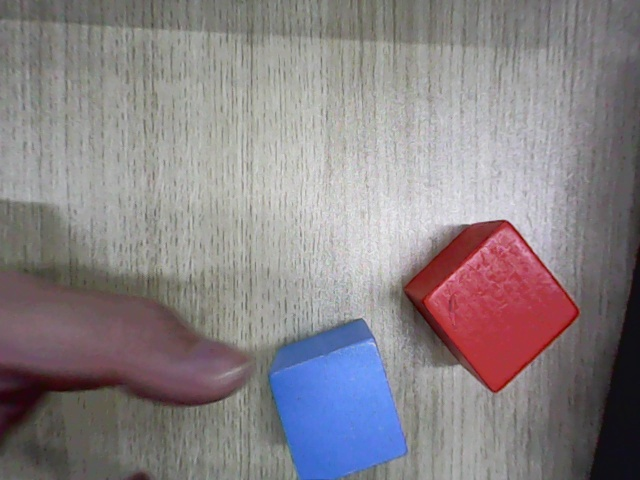upside of big cube: (424, 223, 580, 390), (268, 342, 408, 479)
